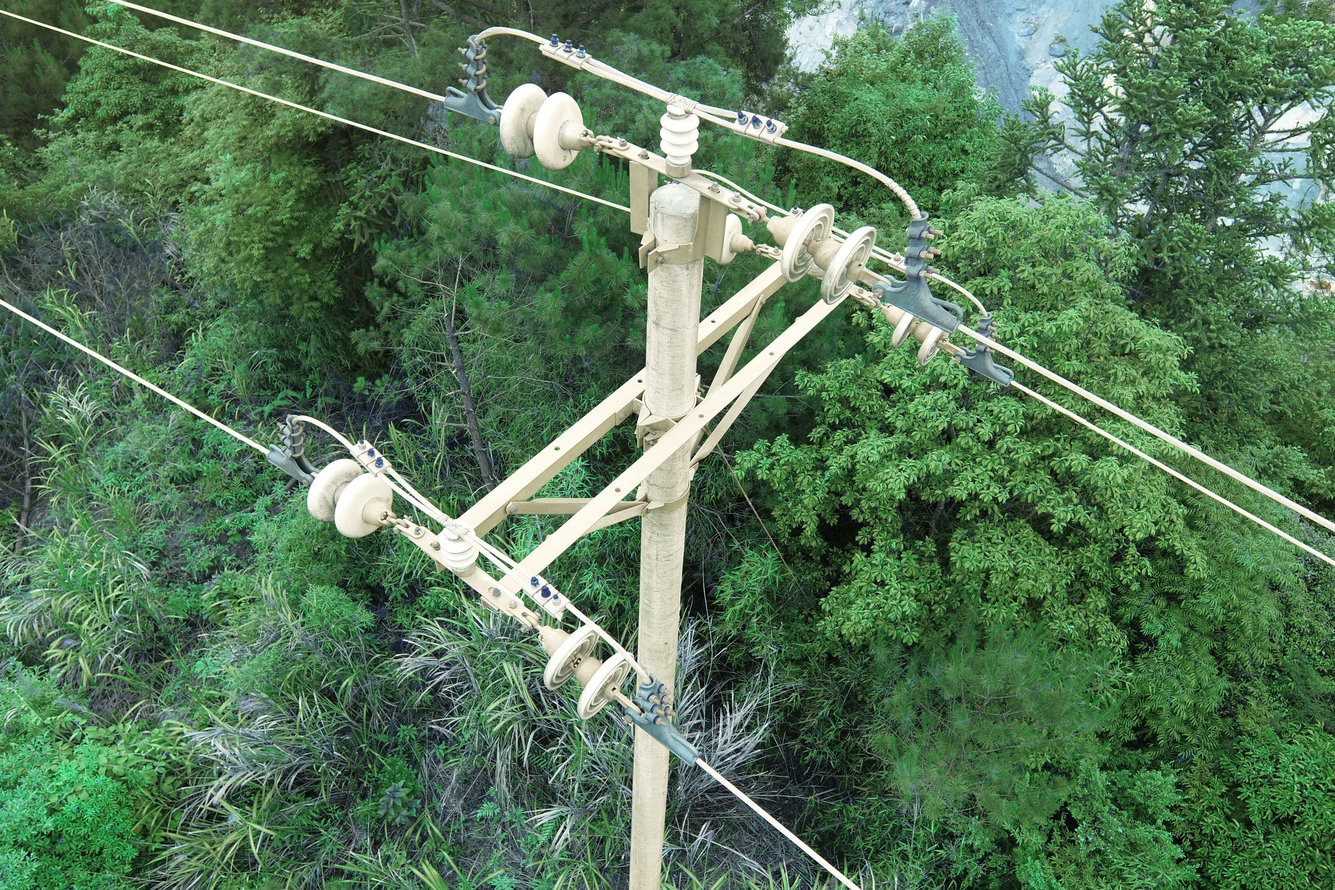severe_soiling_no_discharge_whole: (765, 200, 881, 306), (494, 76, 595, 174), (302, 456, 399, 541)
